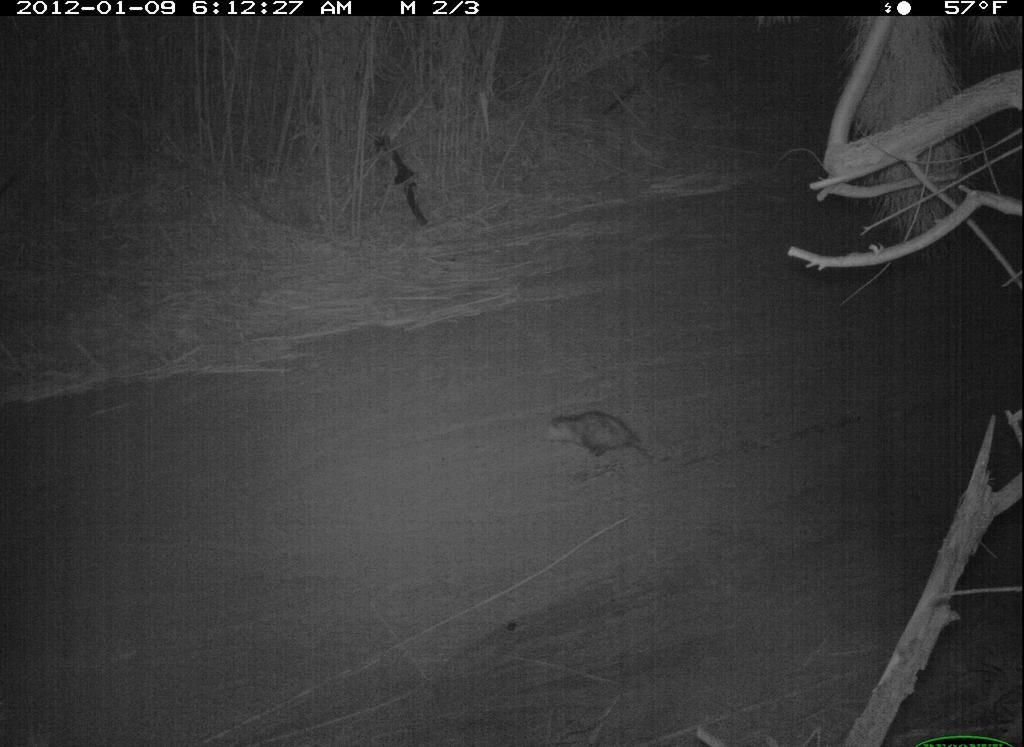opossum: (538, 406, 671, 474)
